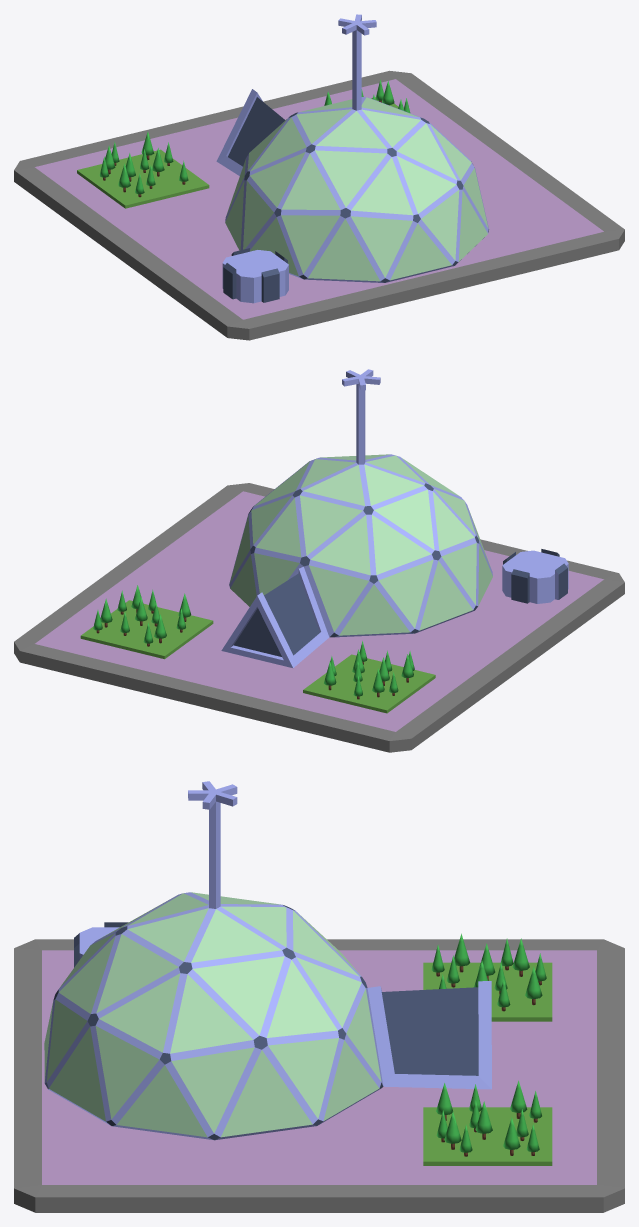
Rendered from greenhouseblock.fbx.
3 views of the same model, one above another, from view 1: azimuth 30°, elevation 25°; view 2: azimuth 150°, elevation 25°; view 3: azimuth 270°, elevation 25° (orthographic). The views are drawn at different scales.
Visible parts, largest first — view 1: GreenHouseBlock; view 2: GreenHouseBlock; view 3: GreenHouseBlock.
Part boxes in pixels (x1,y1,x2,y2): GreenHouseBlock: (14,14,624,340); GreenHouseBlock: (14,369,624,752); GreenHouseBlock: (14,781,624,1212).
Bounding box in the file's own units: 100 × 52.54 × 100.
